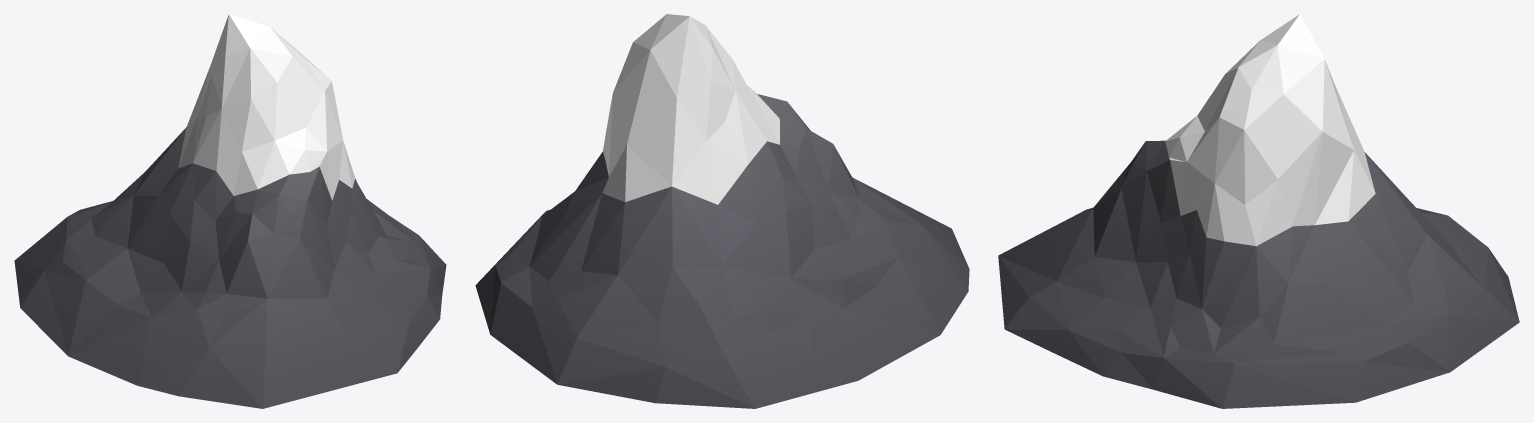
File: Mountain_03.glb
The picture shows the model from 3 angles, left to right: view 1: azimuth 30°, elevation 25°; view 2: azimuth 150°, elevation 25°; view 3: azimuth 270°, elevation 25°; orthographic projection. The views are drawn at different scales.
Visible parts, largest first — view 1: Mountain_03; view 2: Mountain_03; view 3: Mountain_03.
Part boxes in pixels (<box>): Mountain_03: <box>14,14,446,408</box>; Mountain_03: <box>475,14,969,408</box>; Mountain_03: <box>998,14,1519,408</box>.
Size of the model in its own units: 70.72 by 48.25 by 76.8.
Materials: 1 (1 with a texture image).
